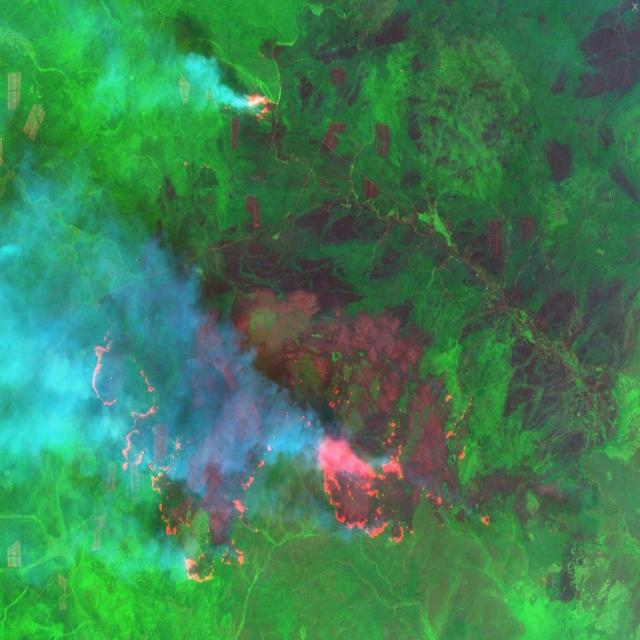fire: (88, 327, 276, 588), (314, 428, 422, 550), (243, 84, 276, 124)
